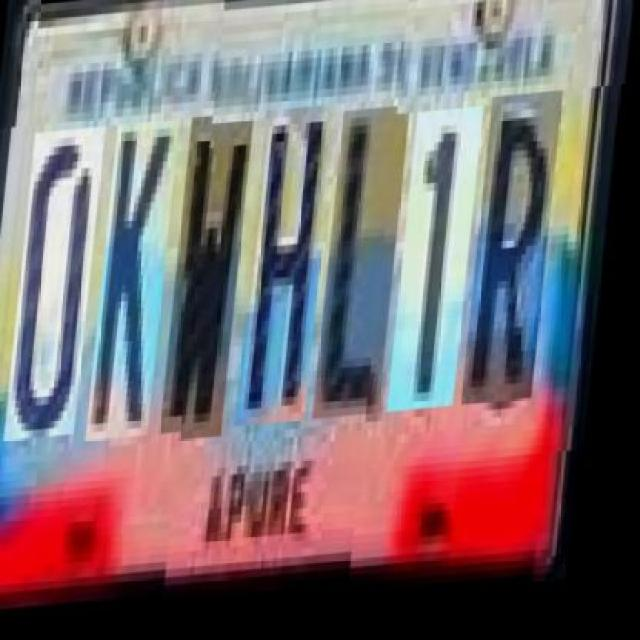0: (13, 128, 109, 442)
1: (398, 100, 488, 405)
h: (244, 103, 341, 425)
k: (95, 122, 183, 444)
l: (323, 106, 414, 420)
r: (472, 86, 568, 400)
w: (170, 117, 258, 438)
